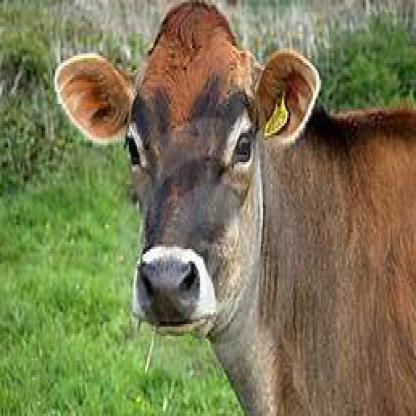cow: (55, 2, 414, 414)
